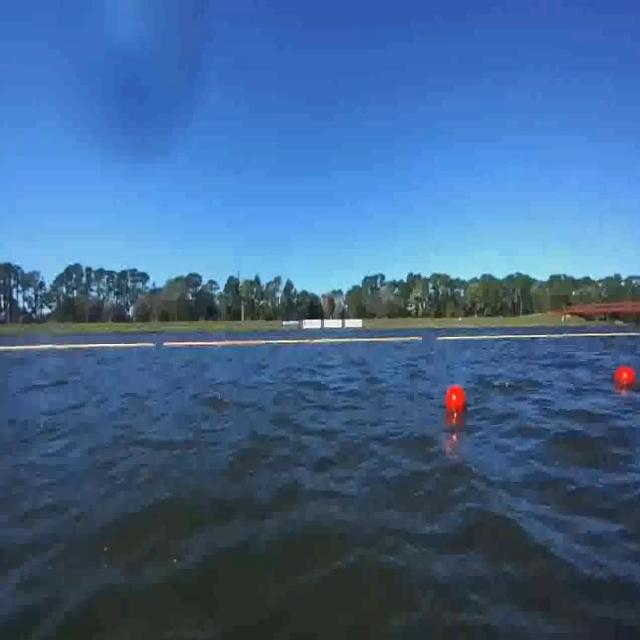red-buoy: (447, 385, 470, 417), (615, 365, 637, 386)
